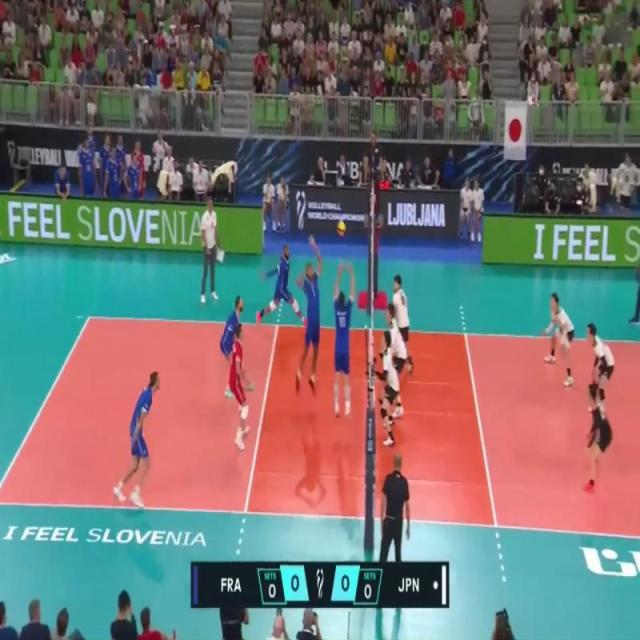volleyball: (336, 220, 346, 237)
